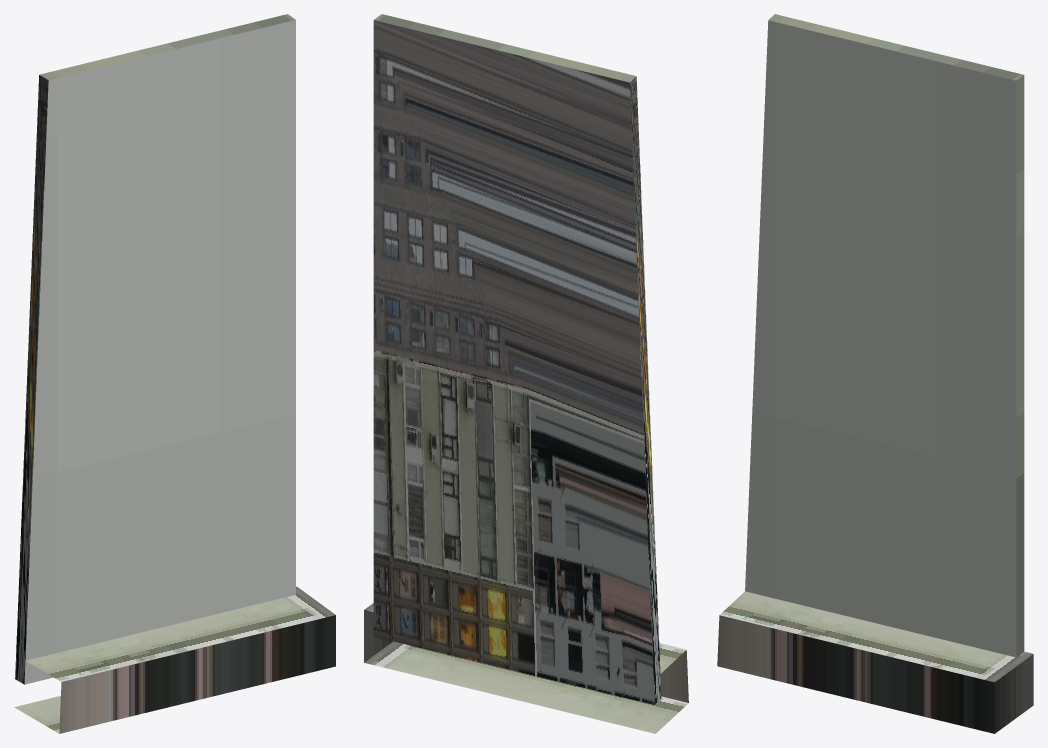
File: 093_lowriseWall_cell.gltf
3 views of the same model, side by side, from view 1: azimuth 30°, elevation 25°; view 2: azimuth 150°, elevation 25°; view 3: azimuth 330°, elevation 25° (orthographic). The views are drawn at different scales.
Parts seen in each view (by area): view 1: lowriseWall_cell; view 2: lowriseWall_cell; view 3: lowriseWall_cell.
Boxes of the visible parts, x1,y1,x2,y2 form: lowriseWall_cell: [14, 14, 335, 733]; lowriseWall_cell: [364, 14, 688, 733]; lowriseWall_cell: [717, 14, 1033, 733].
Size of the model in its own units: 2.12 by 4.49 by 0.5042.
1 material, 1 textured.
